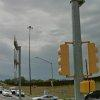Traffic light: (48, 36, 100, 73)
